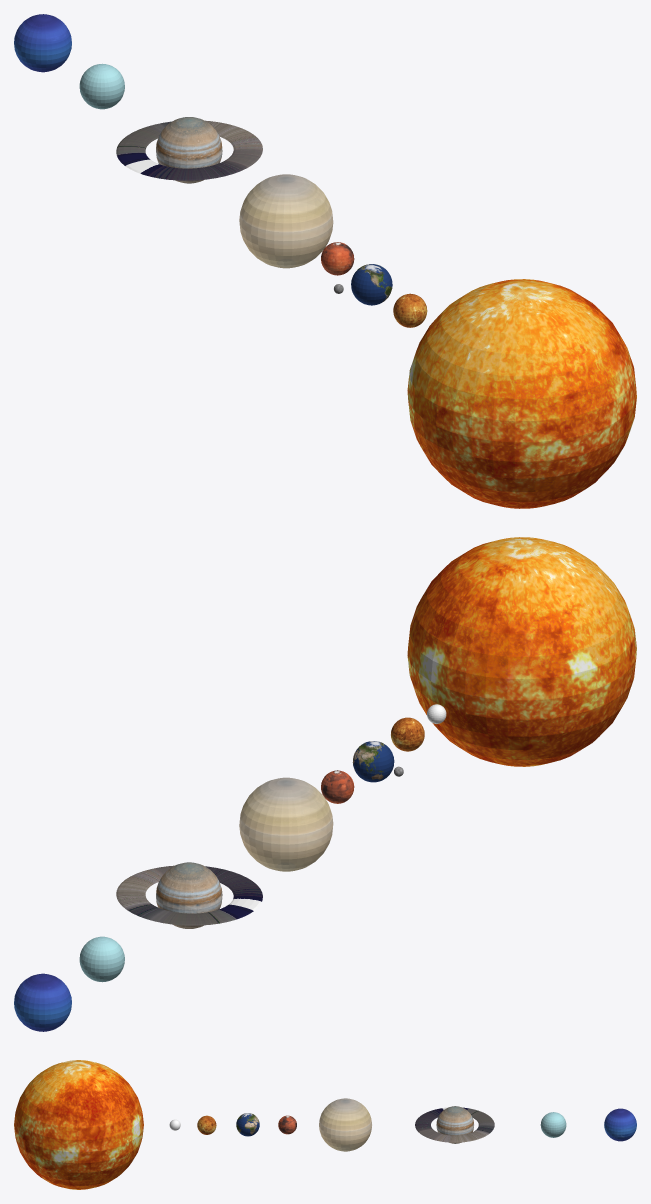
The model's file is solar_system.glb.
The picture shows the model from 3 angles, top to bottom: view 1: azimuth 30°, elevation 25°; view 2: azimuth 150°, elevation 25°; view 3: azimuth 270°, elevation 25°; orthographic projection. The views are drawn at different scales.
Visible parts, largest first — view 1: Sphere, Sphere.006, Torus, Sphere.007, Sphere.009, Sphere.008, Sphere.003, Sphere.002, Sphere.005; view 2: Sphere, Sphere.006, Torus, Sphere.007, Sphere.009, Sphere.008, Sphere.003, Sphere.002, Sphere.005; view 3: Sphere, Sphere.006, Torus, Sphere.007, Sphere.009, Sphere.008, Sphere.003, Sphere.002, Sphere.005.
Boxes of the visible parts, x1,y1,x2,y2 form: Sphere: (407, 279, 636, 508); Sphere.006: (239, 174, 333, 268); Torus: (116, 120, 262, 180); Sphere.007: (156, 117, 222, 183); Sphere.009: (14, 14, 71, 72); Sphere.008: (79, 63, 124, 109); Sphere.003: (351, 264, 392, 305); Sphere.002: (393, 293, 427, 327); Sphere.005: (321, 242, 354, 275); Sphere: (407, 537, 636, 766); Sphere.006: (239, 777, 333, 871); Torus: (116, 865, 262, 925); Sphere.007: (156, 862, 222, 928); Sphere.009: (14, 973, 71, 1031); Sphere.008: (79, 936, 124, 982); Sphere.003: (352, 741, 394, 782); Sphere.002: (391, 717, 424, 751); Sphere.005: (321, 770, 354, 803); Sphere: (14, 1060, 143, 1189); Sphere.006: (319, 1098, 371, 1151); Torus: (415, 1107, 494, 1142); Sphere.007: (436, 1106, 473, 1143); Sphere.009: (604, 1108, 636, 1141); Sphere.008: (540, 1112, 566, 1137); Sphere.003: (236, 1113, 259, 1136); Sphere.002: (197, 1115, 216, 1134); Sphere.005: (278, 1115, 296, 1134).
Bounding box in the file's own units: 200 × 200 × 958.
11 materials, 10 textured.
